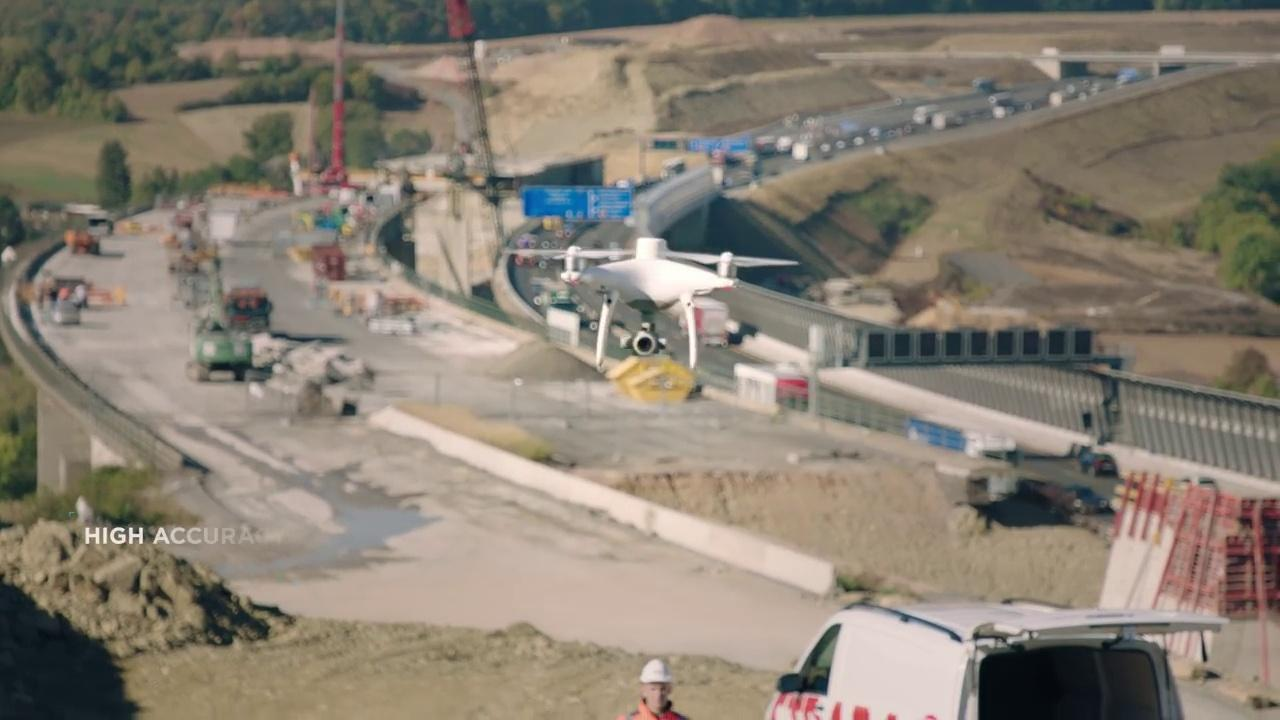drone: (513, 236, 801, 372)
